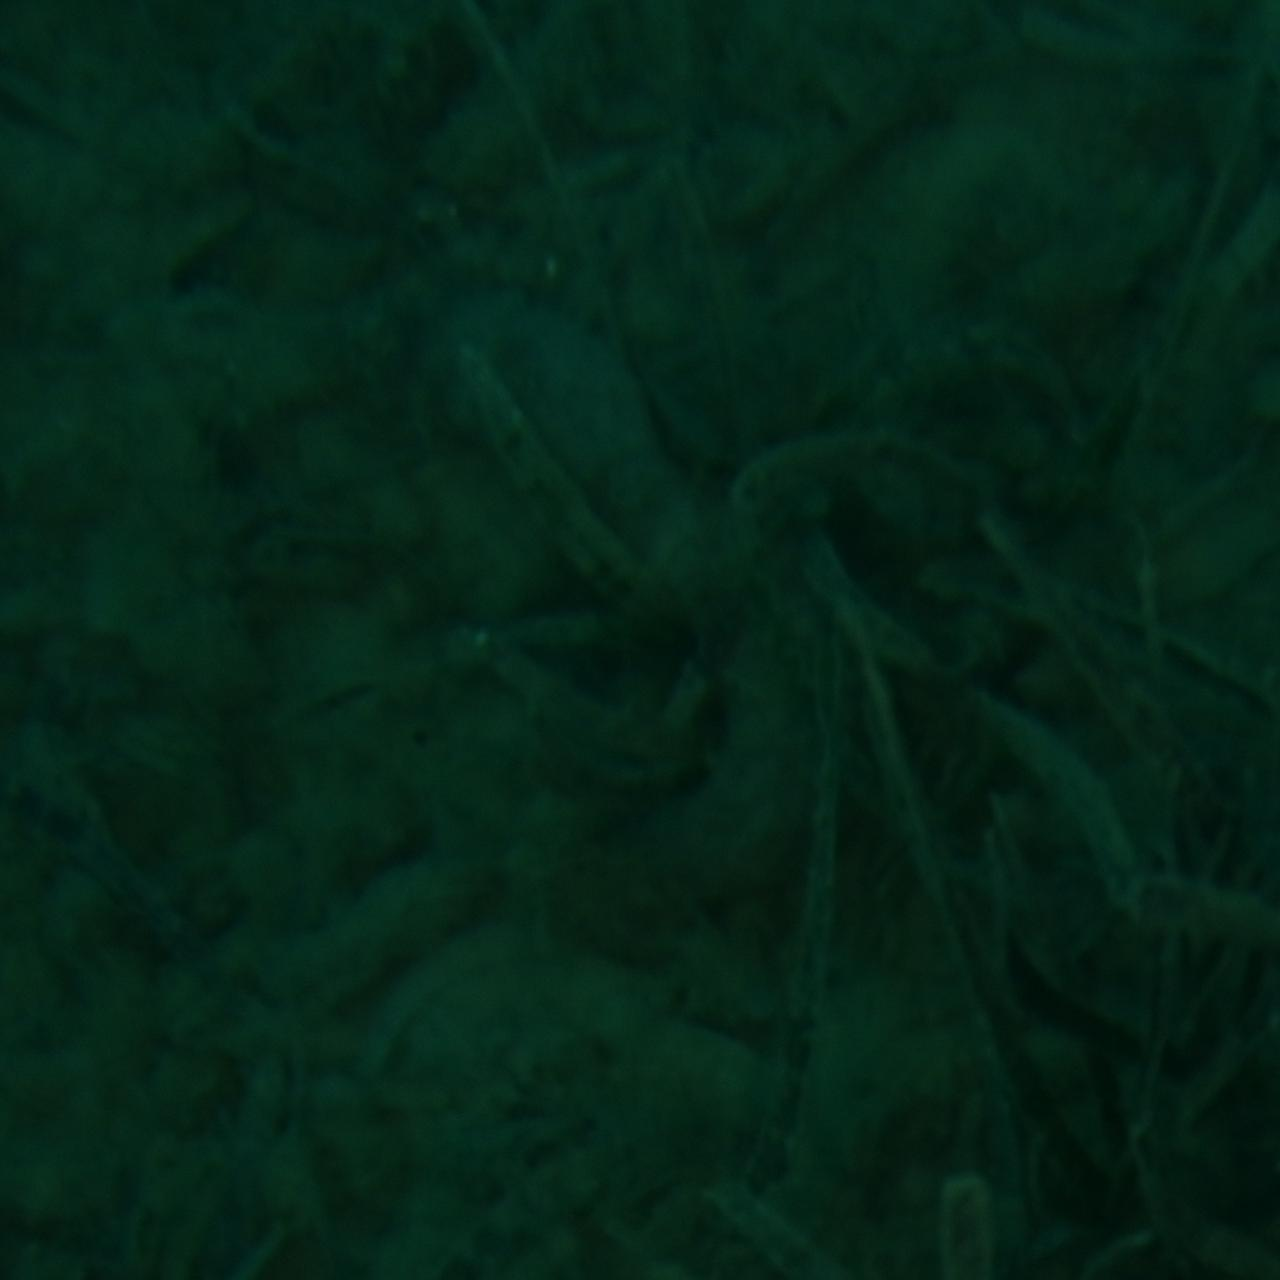Holothuria tubulosa: (402, 266, 878, 1014)
